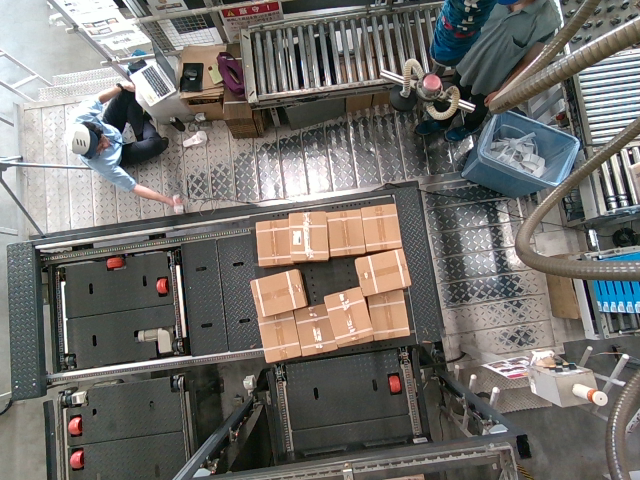box: (251, 269, 305, 315), (356, 251, 410, 297), (287, 208, 329, 261), (327, 289, 369, 342), (257, 308, 299, 361), (294, 301, 336, 354), (366, 287, 408, 340), (362, 200, 404, 253), (326, 205, 368, 258), (257, 214, 299, 267)
